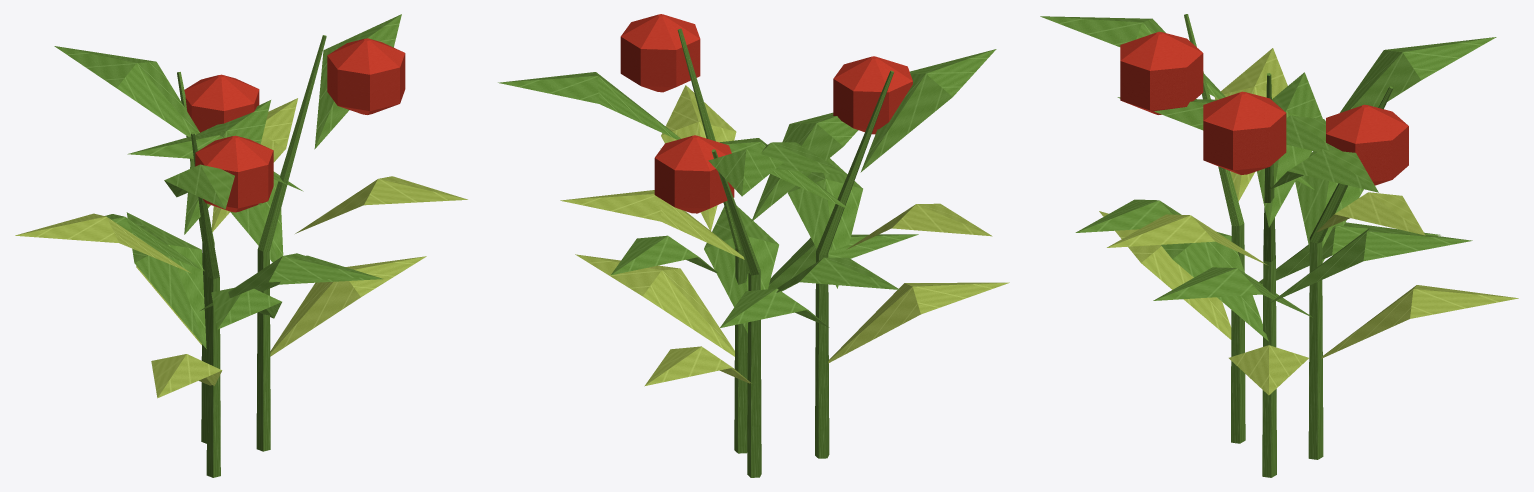
Rendered from crop-tomato-ready.glb.
3 views of the same model, side by side, from view 1: azimuth 30°, elevation 25°; view 2: azimuth 150°, elevation 25°; view 3: azimuth 270°, elevation 25° (orthographic). The views are drawn at different scales.
Visible parts, largest first — view 1: crop-tomato-ready; view 2: crop-tomato-ready; view 3: crop-tomato-ready.
Part boxes in pixels (x1=…): crop-tomato-ready: x1=15, y1=14, x2=467, y2=477; crop-tomato-ready: x1=498, y1=14, x2=1009, y2=477; crop-tomato-ready: x1=1040, y1=14, x2=1518, y2=477.
Size of the model in its own units: 0.9414 by 0.8212 by 0.8257.
Materials: 1 (1 with a texture image).
